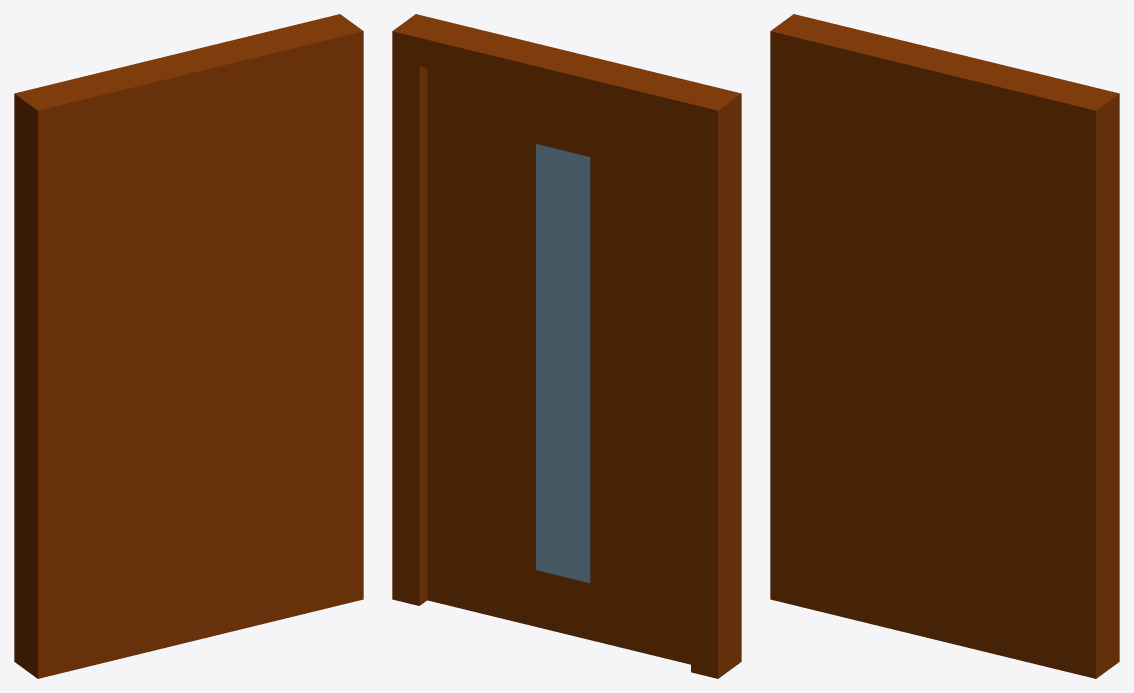
The model's file is SlimWindowDoor.fbx.
The picture shows the model from 3 angles, left to right: view 1: azimuth 30°, elevation 25°; view 2: azimuth 150°, elevation 25°; view 3: azimuth 330°, elevation 25°; orthographic projection.
Visible parts, largest first — view 1: SlimWindowDoor; view 2: SlimWindowDoor; view 3: SlimWindowDoor.
Boxes of the visible parts, box(x1,y1,x2,y2) form: SlimWindowDoor: box(14, 14, 363, 678); SlimWindowDoor: box(392, 14, 741, 678); SlimWindowDoor: box(770, 14, 1119, 678).
Bounding box in the file's own units: 240 × 400 × 30.
